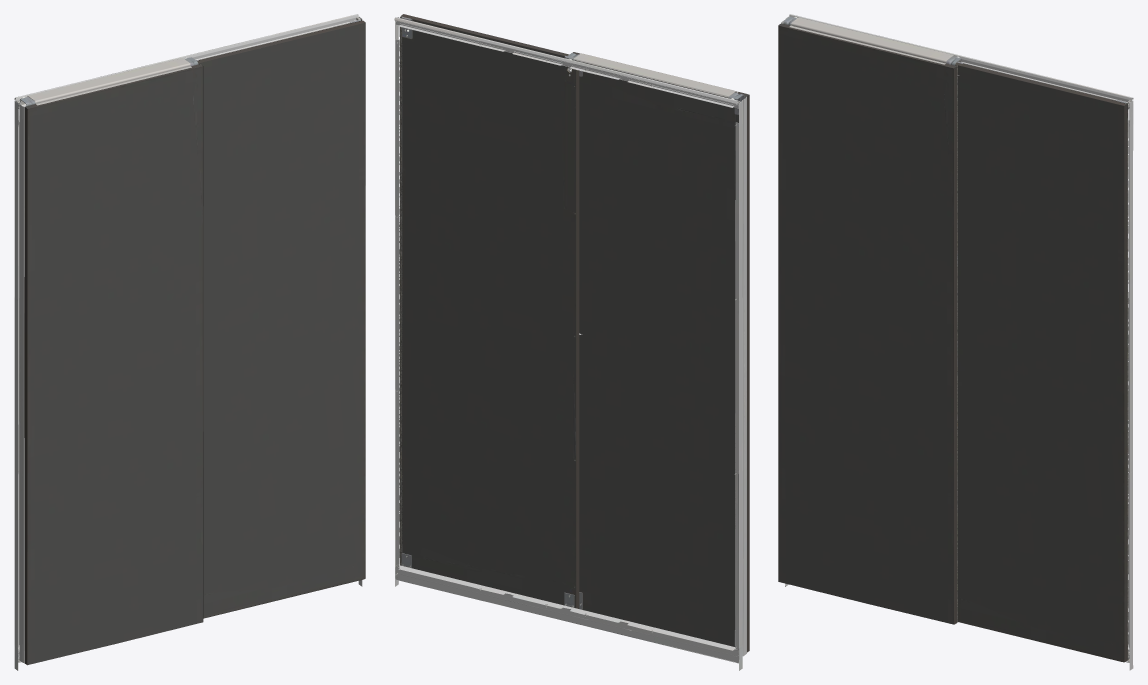
File: 18 - HASVIK - 滑門組, 深灰色, 150x236 公分 IKEA 線上購物.glb
3 renders of one model, left to right at view 1: azimuth 30°, elevation 25°; view 2: azimuth 150°, elevation 25°; view 3: azimuth 330°, elevation 25°, orthographic.
Visible parts, largest first — view 1: 50510952-HASVIK001; view 2: 50510952-HASVIK001; view 3: 50510952-HASVIK001.
Part boxes in pixels (x1,y1,x2,y2): 50510952-HASVIK001: (14, 14, 365, 670); 50510952-HASVIK001: (394, 14, 749, 670); 50510952-HASVIK001: (778, 14, 1133, 670).
Size of the model in its own units: 1.5 by 2.37 by 0.102.
Materials: 1 (1 with a texture image).
